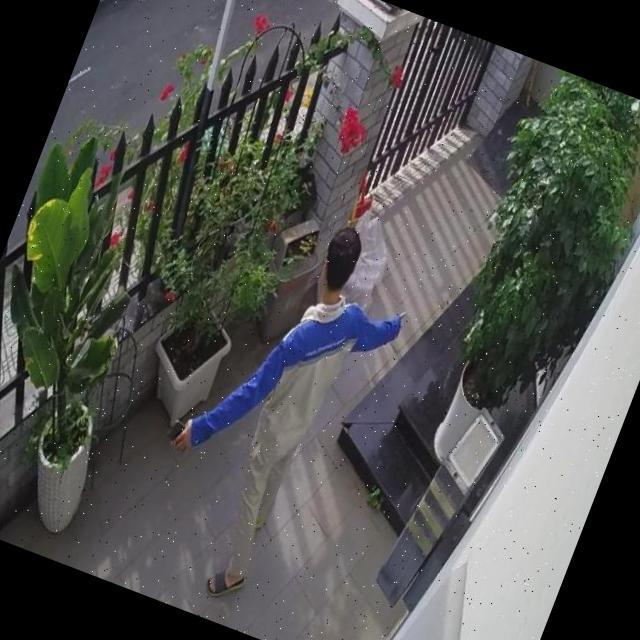person: (126, 197, 424, 620)
